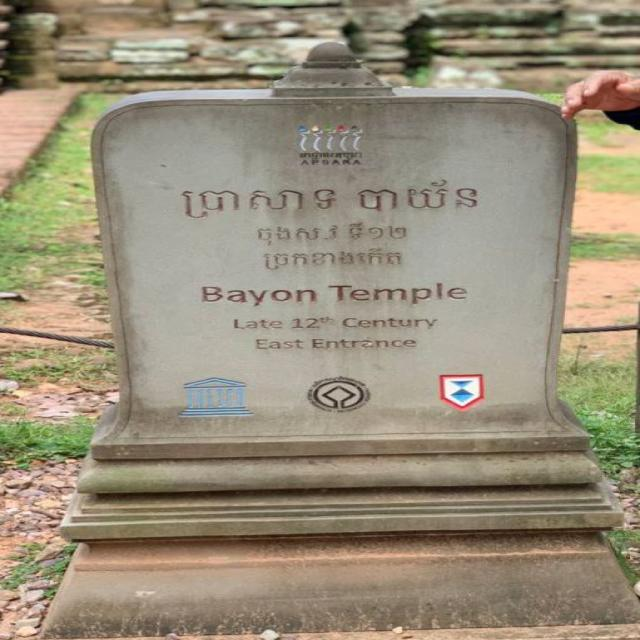Yolov11kh: (175, 177, 492, 222), (252, 221, 417, 248), (257, 244, 421, 270), (289, 312, 323, 334)
